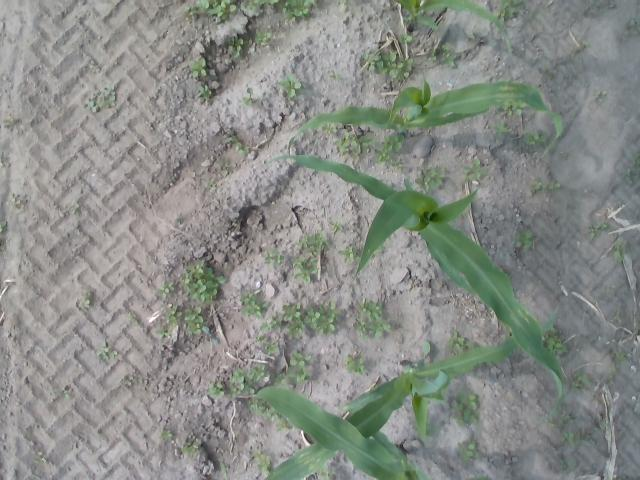Maize: (266, 156, 564, 427), (263, 303, 558, 480), (286, 66, 565, 160), (256, 385, 430, 480), (396, 0, 514, 58), (218, 458, 228, 480)
Weeds: (154, 257, 227, 302), (260, 301, 341, 340), (156, 302, 203, 342), (362, 48, 417, 82), (349, 296, 392, 339), (228, 362, 268, 396), (374, 131, 404, 172), (183, 0, 237, 21), (334, 131, 376, 158), (82, 83, 118, 113), (454, 389, 481, 428), (239, 288, 271, 320), (287, 347, 313, 382), (292, 252, 320, 284), (282, 0, 316, 25), (416, 162, 446, 190), (460, 158, 490, 186), (445, 328, 477, 353), (295, 229, 330, 250), (514, 226, 544, 248), (256, 335, 282, 360), (280, 72, 303, 100), (616, 16, 639, 44), (226, 34, 250, 60), (251, 447, 272, 476), (458, 440, 480, 466), (498, 0, 523, 22), (225, 134, 251, 155), (95, 341, 118, 364), (187, 56, 209, 80), (441, 42, 462, 66), (570, 369, 590, 394), (242, 0, 282, 12), (546, 336, 570, 356), (338, 243, 360, 264), (548, 413, 574, 430), (587, 219, 608, 240), (263, 248, 286, 267), (499, 103, 528, 117), (208, 382, 228, 402), (345, 354, 365, 374), (27, 443, 48, 462), (216, 159, 238, 177), (580, 426, 596, 450), (254, 29, 273, 49), (77, 290, 95, 311), (559, 430, 578, 449), (193, 85, 214, 102), (614, 238, 628, 263), (492, 121, 512, 138), (53, 386, 77, 400), (243, 86, 258, 107), (418, 342, 430, 368), (558, 458, 580, 472), (2, 118, 20, 134), (624, 168, 640, 186), (248, 398, 266, 414), (526, 132, 549, 144), (182, 440, 199, 456), (274, 420, 294, 432), (538, 67, 556, 80), (606, 362, 618, 381), (398, 32, 414, 46), (609, 350, 629, 361), (9, 194, 23, 209), (318, 466, 332, 480), (330, 220, 346, 232), (158, 430, 174, 442), (266, 410, 283, 421), (202, 178, 215, 192), (329, 68, 341, 83), (320, 123, 340, 132), (273, 374, 288, 386), (531, 180, 542, 196), (338, 0, 349, 15), (128, 310, 139, 324), (594, 90, 606, 102), (428, 48, 437, 63), (633, 148, 640, 167), (70, 204, 81, 216), (548, 180, 560, 191), (614, 310, 622, 326), (569, 46, 578, 58), (561, 151, 571, 160), (580, 40, 588, 50), (600, 419, 608, 428), (0, 222, 5, 236), (0, 243, 6, 254), (403, 14, 411, 22), (610, 282, 618, 290), (568, 202, 576, 209), (551, 325, 558, 333), (232, 219, 238, 226)
